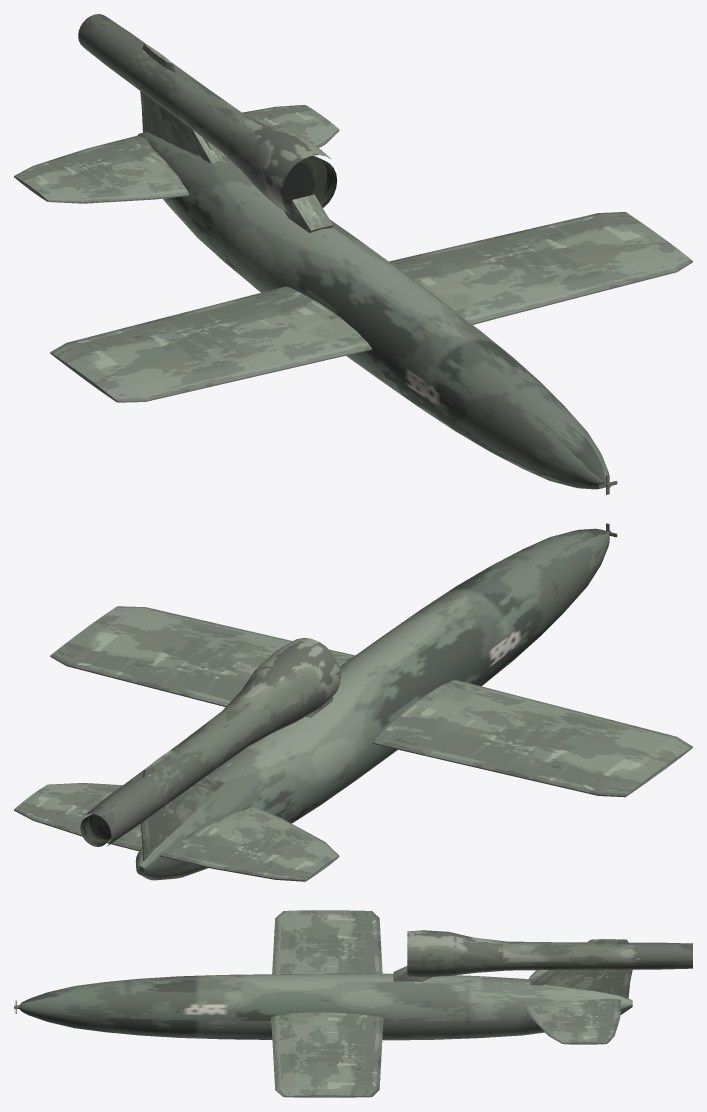
Rendered from fi103-own.glb.
The picture shows the model from 3 angles, top to bottom: view 1: azimuth 30°, elevation 25°; view 2: azimuth 150°, elevation 25°; view 3: azimuth 270°, elevation 25°; orthographic projection. The views are drawn at different scales.
Visible parts, largest first — view 1: Fuselage, StraightWings, DorsalTube, FixedTail, DorsalSupports; view 2: Fuselage, StraightWings, DorsalTube, FixedTail; view 3: Fuselage, StraightWings, DorsalTube, FixedTail, DorsalSupports.
Boxes of the visible parts, x1,y1,x2,y2 form: Fuselage: [137, 132, 608, 489]; StraightWings: [50, 212, 692, 402]; DorsalTube: [78, 14, 337, 213]; FixedTail: [14, 44, 339, 203]; DorsalSupports: [182, 122, 332, 232]; Fuselage: [135, 528, 609, 880]; StraightWings: [50, 606, 692, 797]; DorsalTube: [80, 638, 340, 846]; FixedTail: [14, 750, 339, 881]; Fuselage: [19, 973, 632, 1040]; StraightWings: [270, 910, 383, 1097]; DorsalTube: [407, 930, 692, 977]; FixedTail: [524, 939, 632, 1044]; DorsalSupports: [393, 966, 571, 985].
Size of the model in its own units: 5.37 by 1.42 by 8.32.
Materials: 1 (1 with a texture image).
